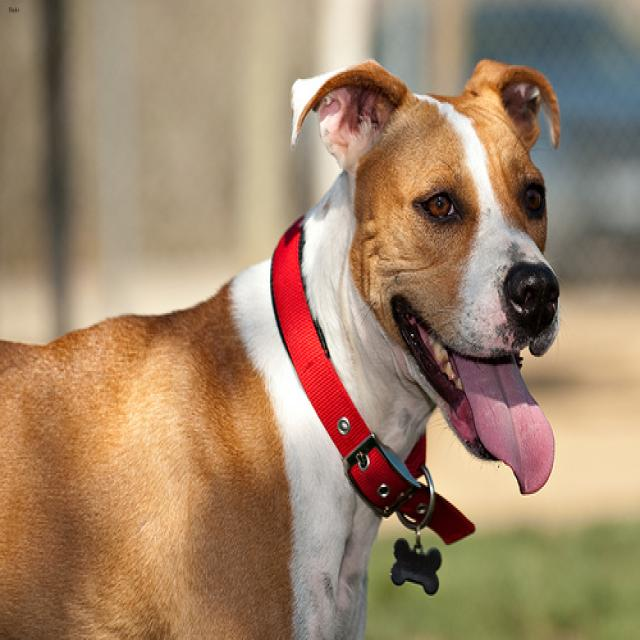dog-staffordshire_bull_terrier: (1, 46, 571, 636)
